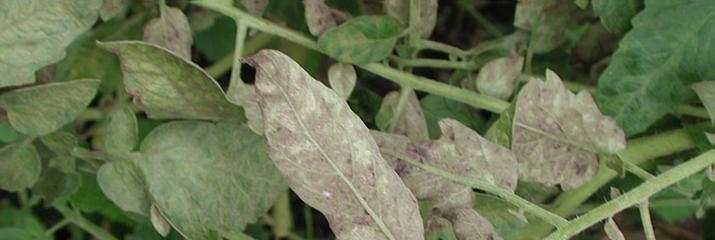Tomato mold leaf: (113, 126, 287, 240), (600, 0, 715, 125), (0, 0, 108, 88), (0, 72, 104, 160)
